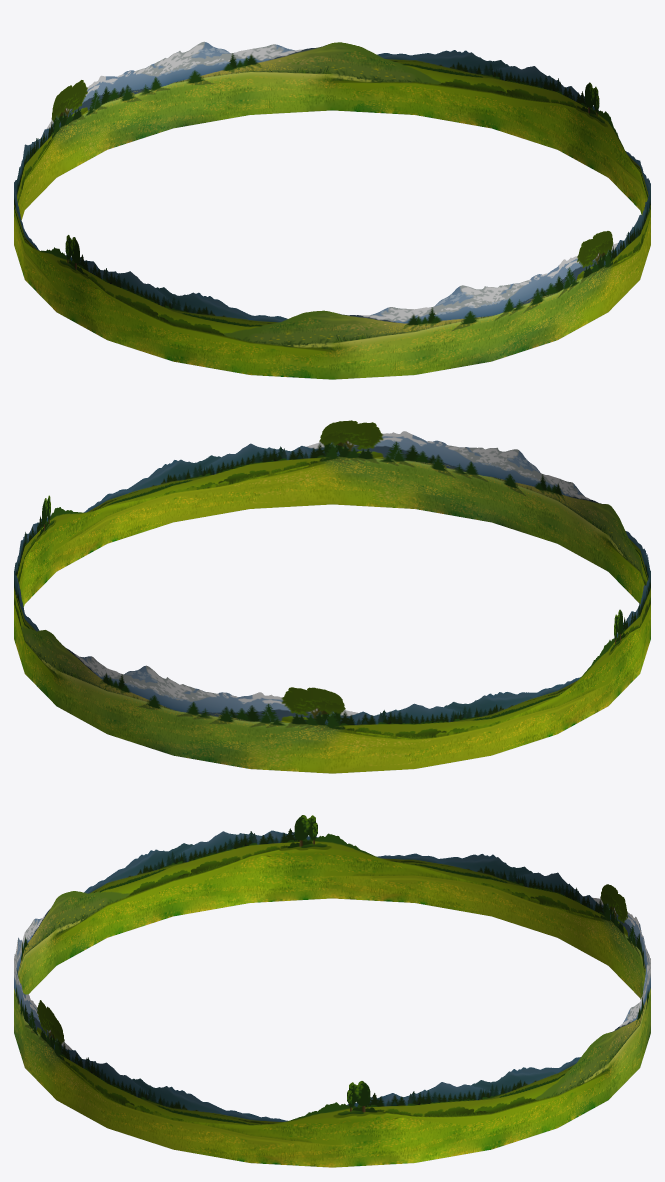
Rendered from circel.FBX.
The picture shows the model from 3 angles, top to bottom: view 1: azimuth 30°, elevation 25°; view 2: azimuth 150°, elevation 25°; view 3: azimuth 270°, elevation 25°; orthographic projection.
Visible parts, largest first — view 1: Cylinder001; view 2: Cylinder001; view 3: Cylinder001.
Boxes of the visible parts, bbox=[...] form: Cylinder001: bbox=[14, 41, 650, 379]; Cylinder001: bbox=[14, 420, 650, 773]; Cylinder001: bbox=[14, 815, 650, 1167].
Size of the model in its own units: 300 by 50 by 300.
